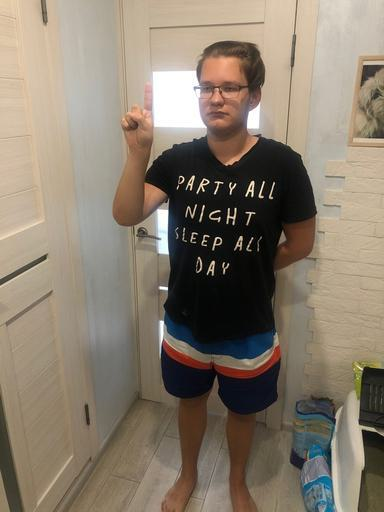one: (120, 81, 154, 152)
